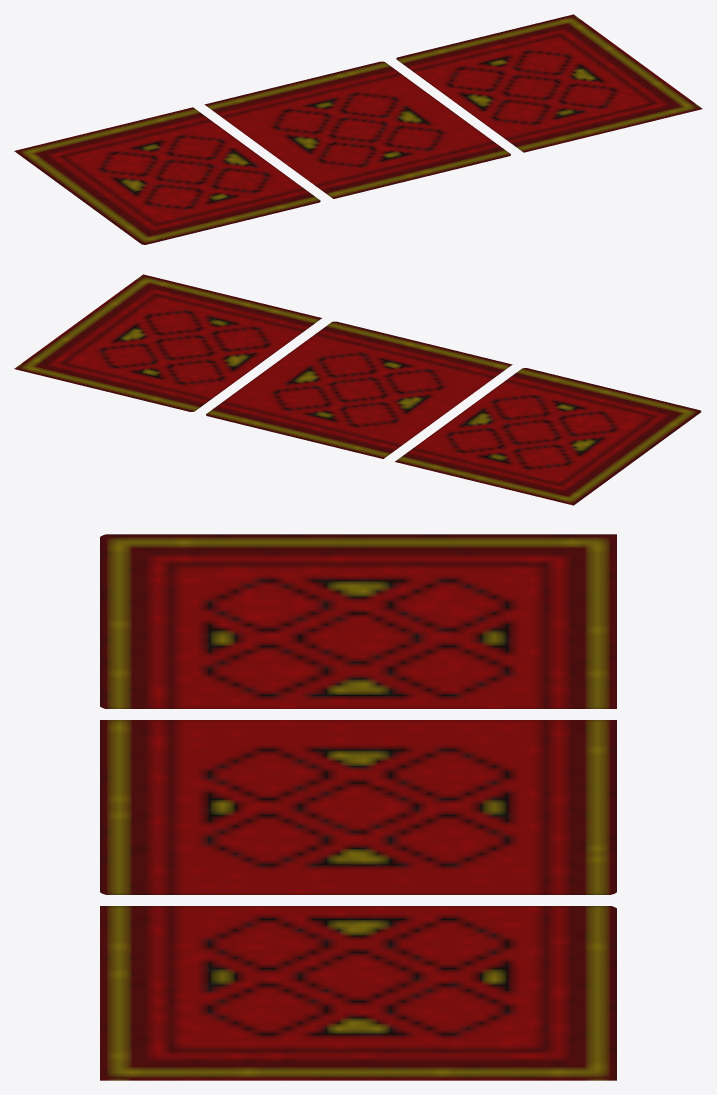
File: carpet.fbx
3 views of the same model, one above another, from view 1: azimuth 30°, elevation 25°; view 2: azimuth 150°, elevation 25°; view 3: azimuth 270°, elevation 25° (orthographic). The views are drawn at different scales.
Visible parts, largest first — view 1: plane_1, plane, plane_2; view 2: plane_1, plane, plane_2; view 3: plane, plane_1, plane_2.
Part boxes in pixels (bbox=[...]): plane_1: bbox=[204, 61, 510, 198]; plane: bbox=[396, 14, 702, 152]; plane_2: bbox=[14, 107, 320, 244]; plane_1: bbox=[206, 321, 512, 458]; plane: bbox=[14, 274, 321, 411]; plane_2: bbox=[395, 368, 701, 505]; plane: bbox=[100, 906, 616, 1080]; plane_1: bbox=[100, 720, 616, 894]; plane_2: bbox=[100, 534, 616, 708].
Size of the model in its own units: 312 by 0 by 125.
Materials: 1 (1 with a texture image).
